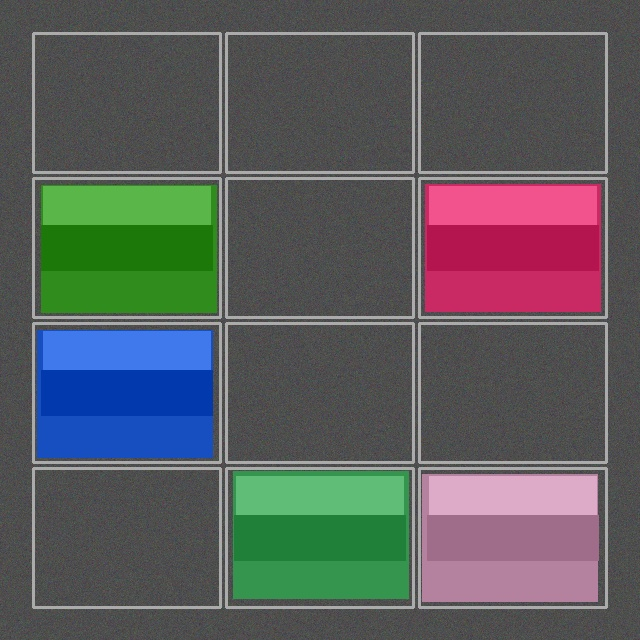space-empty: (35, 35, 218, 170), (228, 35, 411, 170), (421, 35, 604, 170), (228, 180, 411, 315), (228, 325, 411, 460), (421, 325, 604, 460), (35, 470, 218, 605)
space-occupied: (35, 180, 218, 315), (421, 180, 604, 315), (35, 325, 218, 460), (228, 470, 411, 605), (421, 470, 604, 605)
